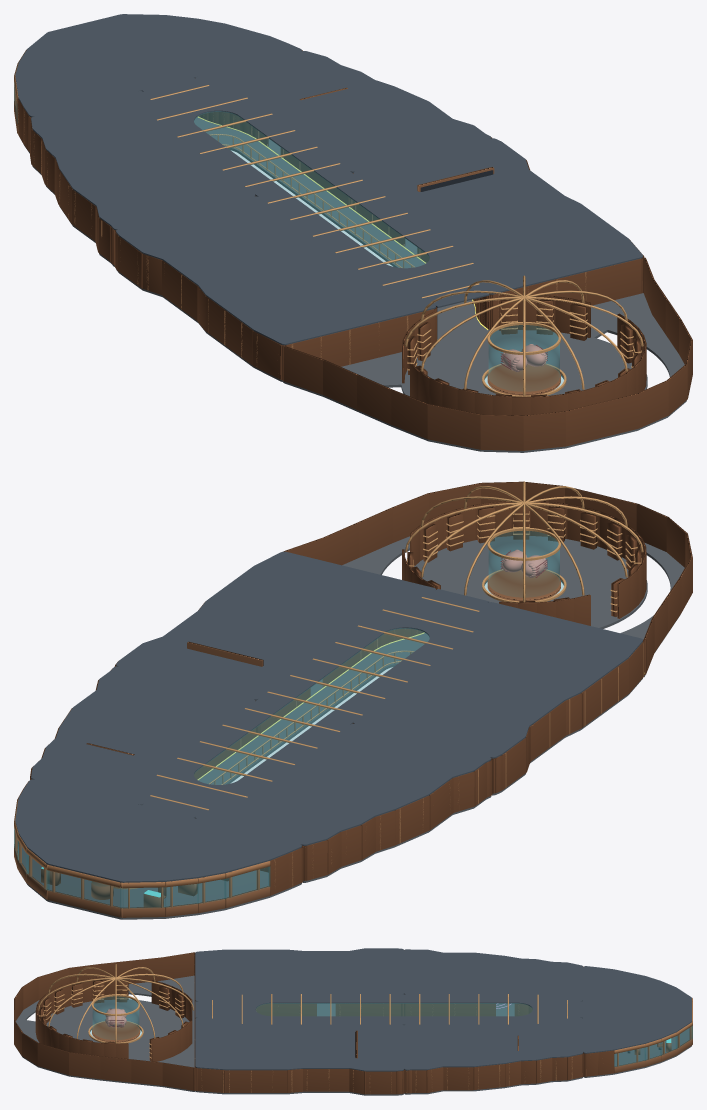
Rendered from Upper_Deck_Complete.glb.
3 views of the same model, one above another, from view 1: azimuth 30°, elevation 25°; view 2: azimuth 150°, elevation 25°; view 3: azimuth 270°, elevation 25° (orthographic). The views are drawn at different scales.
Visible parts, largest first — view 1: Ceiling_panel (×5), Roof_shoulder, Aft_hull_liner (×10), Wall (×8), Skylight_glass, Circular_walkway, Upper_Atrium_Walkway_Floor, Aft_walkable_floor, Electrogel_tank_glass, Electrogel_base; view 2: Ceiling_panel (×5), Roof_shoulder, Wall (×10), Aft_hull_liner (×8), Skylight_glass, Circular_walkway, Upper_Atrium_Walkway_Floor, Bridge_wall (×4), Command_Bridge_floor, Electrogel_tank_glass, Aft_walkable_floor, Electrogel_base; view 3: Ceiling_panel (×5), Wall (×20), Roof_shoulder, Aft_hull_liner (×12), Circular_walkway, Skylight_glass, Aft_walkable_floor, Electrogel_tank_glass, Command_Bridge_floor, Electrogel_base, Bridge_wall, Media_Nexus_floor (+5 smaller).
Part boxes in pixels (box(x1,y1,x2,y2)): Ceiling_panel (×5): box(15, 14, 642, 345); Roof_shoulder: box(142, 77, 489, 307); Aft_hull_liner (×10): box(284, 346, 687, 450); Wall (×8): box(72, 190, 641, 379); Skylight_glass: box(194, 111, 429, 267); Circular_walkway: box(403, 330, 631, 396); Upper_Atrium_Walkway_Floor: box(194, 117, 488, 342); Aft_walkable_floor: box(283, 293, 686, 452); Electrogel_tank_glass: box(489, 325, 559, 390); Electrogel_base: box(487, 364, 560, 395); Ceiling_panel (×5): box(15, 551, 642, 882); Roof_shoulder: box(142, 589, 489, 818); Wall (×10): box(269, 658, 629, 895); Aft_hull_liner (×8): box(323, 481, 687, 567); Skylight_glass: box(194, 628, 429, 784); Circular_walkway: box(414, 536, 628, 627); Upper_Atrium_Walkway_Floor: box(198, 633, 429, 784); Bridge_wall (×4): box(48, 866, 269, 917); Command_Bridge_floor: box(18, 844, 301, 919); Electrogel_tank_glass: box(489, 531, 559, 596); Aft_walkable_floor: box(342, 536, 684, 676); Electrogel_base: box(487, 570, 560, 601); Ceiling_panel (×5): box(195, 948, 691, 1071); Wall (×20): box(197, 1003, 614, 1094); Roof_shoulder: box(195, 994, 582, 1025); Aft_hull_liner (×12): box(22, 952, 193, 1090); Circular_walkway: box(46, 999, 194, 1061); Skylight_glass: box(256, 1003, 532, 1015); Aft_walkable_floor: box(15, 975, 195, 1091); Electrogel_tank_glass: box(93, 996, 138, 1039); Command_Bridge_floor: box(583, 1028, 691, 1077); Electrogel_base: box(92, 1021, 140, 1042); Bridge_wall: box(614, 1048, 645, 1066); Media_Nexus_floor: box(195, 1090, 403, 1095).
Size of the model in its own units: 37.42 by 8.03 by 87.22.
